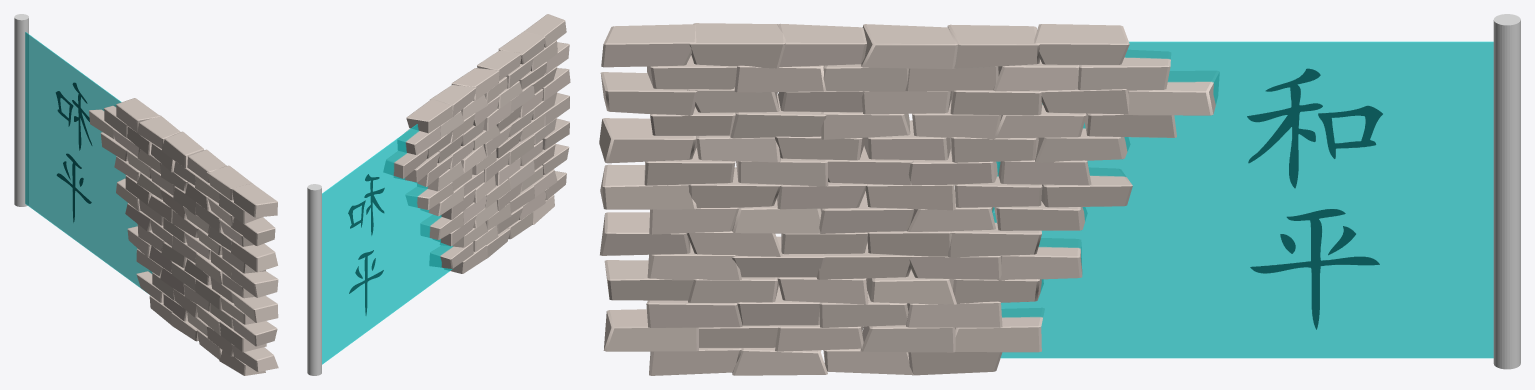
File: Great Data Wall.fbx
The picture shows the model from 3 angles, left to right: view 1: azimuth 30°, elevation 25°; view 2: azimuth 150°, elevation 25°; view 3: azimuth 270°, elevation 25°; orthographic projection. The views are drawn at different scales.
Visible parts, largest first — view 1: Cube, Cube.001, Cylinder, Peace; view 2: Cube, Cube.001, Cylinder, Peace; view 3: Cube, Cube.001, Cylinder, Peace.
Part boxes in pixels (x1,y1,x2,y2): Cube: [89, 98, 278, 375]; Cube.001: [25, 32, 152, 293]; Cylinder: [14, 14, 28, 206]; Peace: [56, 82, 92, 222]; Cube: [383, 14, 570, 273]; Cube.001: [322, 124, 452, 364]; Cylinder: [307, 184, 321, 375]; Peace: [348, 174, 384, 315]; Cube: [599, 23, 1219, 375]; Cube.001: [992, 41, 1493, 358]; Cylinder: [1493, 14, 1520, 369]; Peace: [1247, 68, 1382, 329].
Bounding box in the file's own units: 153 × 1101 × 2653.
